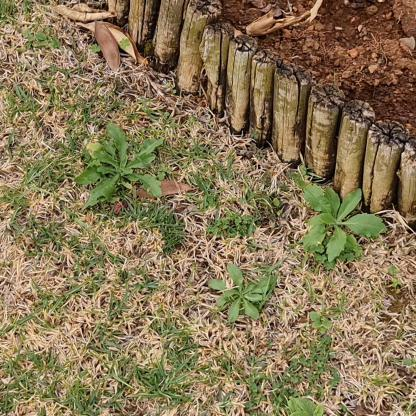Weeds: (75, 121, 165, 213), (299, 181, 388, 265), (207, 264, 278, 323), (310, 311, 334, 331)
